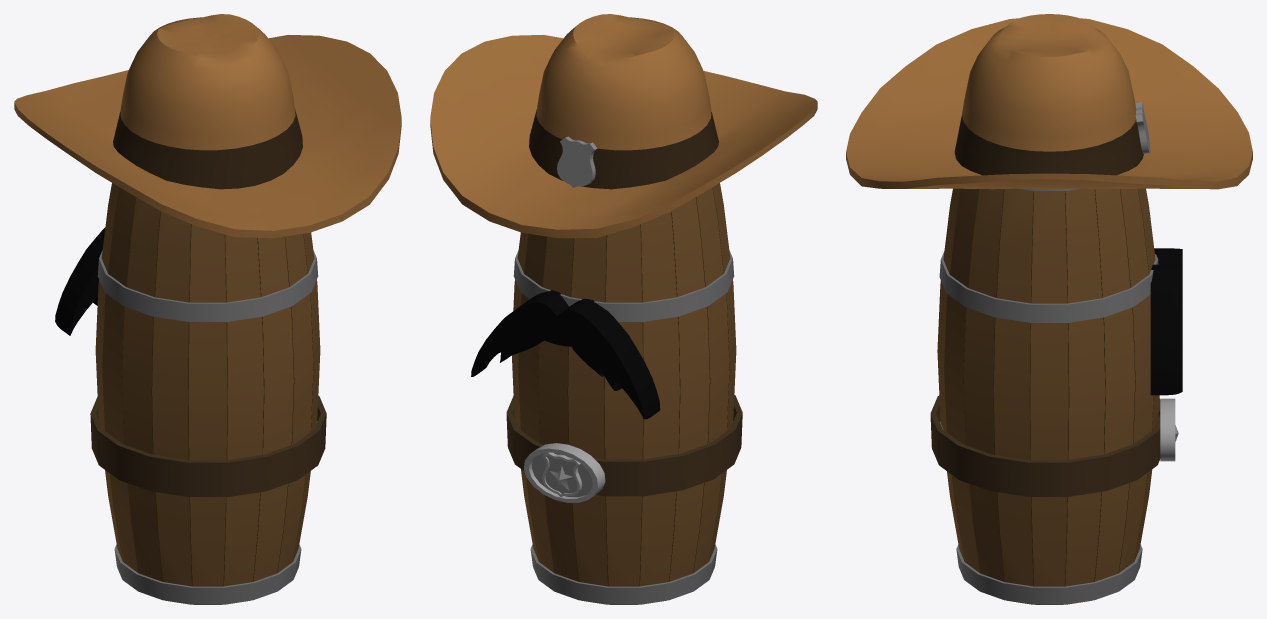
The model's file is barrel deputy upgrade 1.fbx.
3 renders of one model, left to right at view 1: azimuth 30°, elevation 25°; view 2: azimuth 150°, elevation 25°; view 3: azimuth 270°, elevation 25°, orthographic.
Visible parts, largest first — view 1: barrel deputy; view 2: barrel deputy; view 3: barrel deputy.
Boxes of the visible parts, x1,y1,x2,y2 form: barrel deputy: (14, 14, 401, 604); barrel deputy: (430, 14, 817, 604); barrel deputy: (846, 14, 1252, 604).
Size of the model in its own units: 674 by 1059 by 732.
